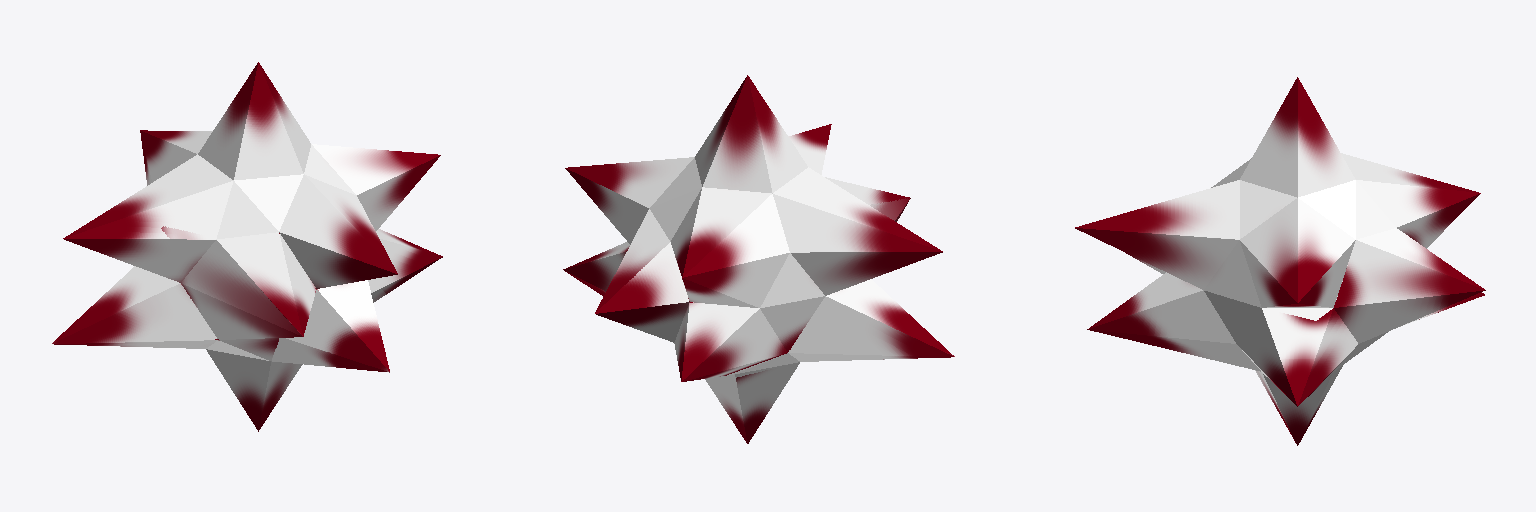
The picture shows the model from 3 angles: view 1: azimuth 30°, elevation 25°; view 2: azimuth 150°, elevation 25°; view 3: azimuth 270°, elevation 25°; orthographic projection.
Visible parts, largest first — view 1: ICO球; view 2: ICO球; view 3: ICO球.
Boxes of the visible parts, box(x1,y1,x2,y2) form: ICO球: box(52, 62, 442, 431); ICO球: box(563, 75, 954, 443); ICO球: box(1075, 77, 1485, 445).
Bounding box in the file's own units: 3.9 × 3.51 × 3.55.
1 materials, 1 textured.